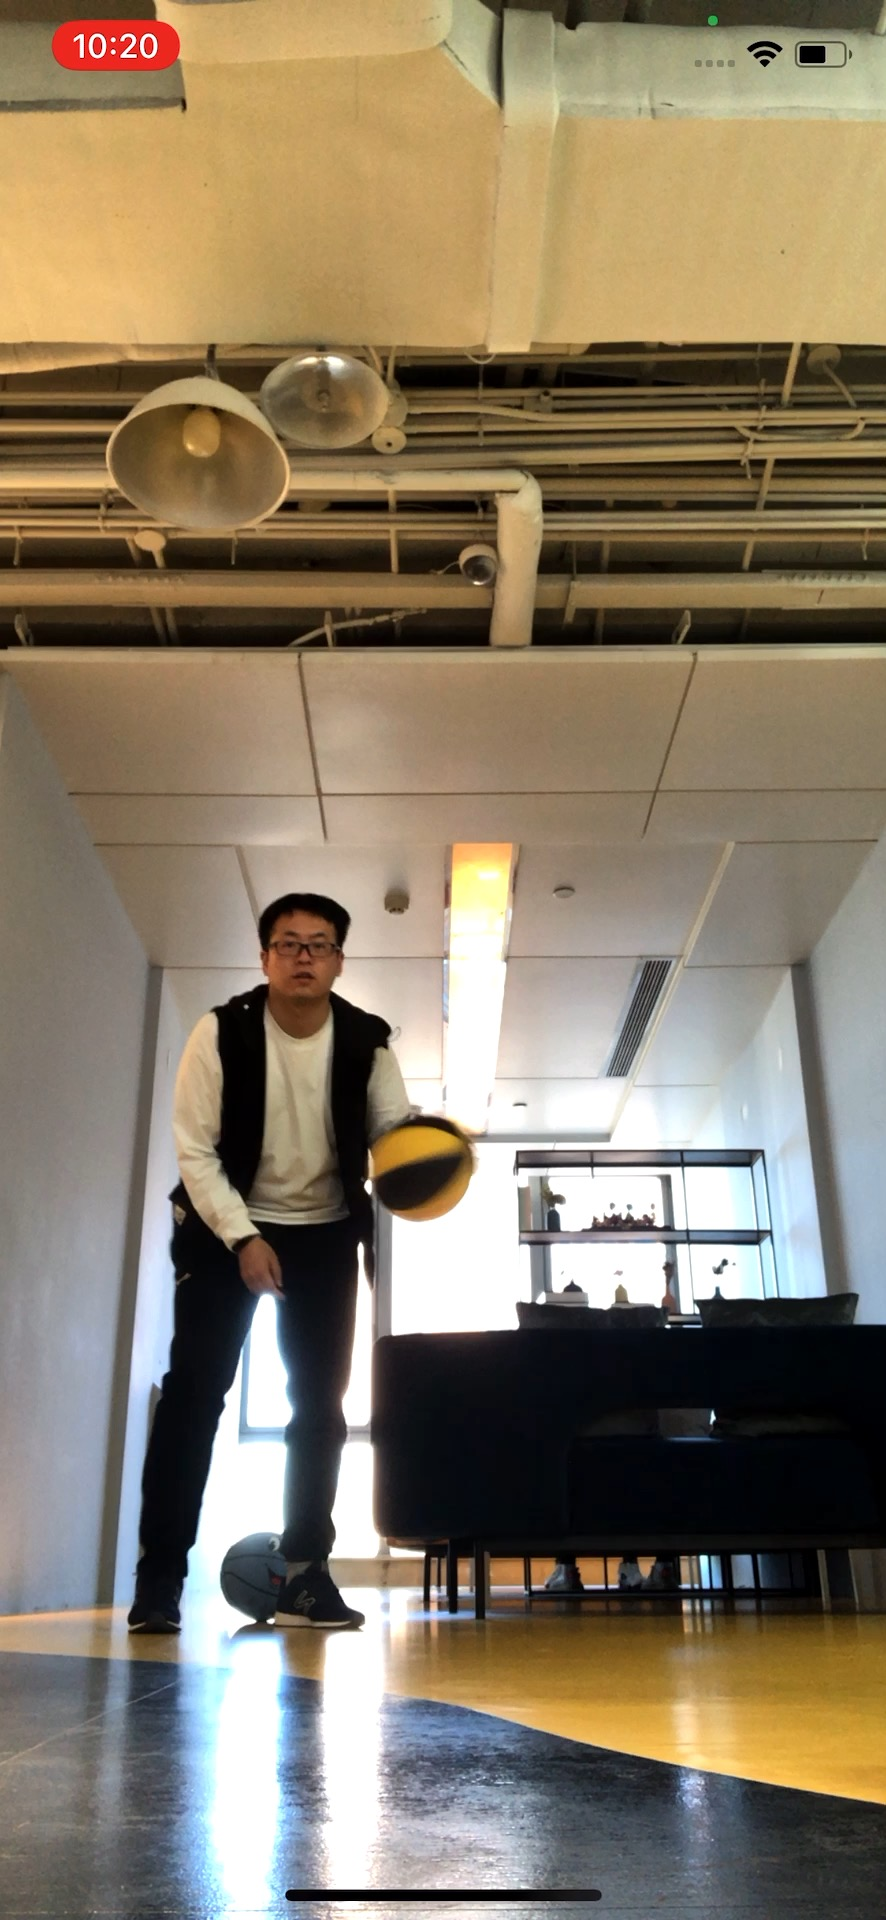ball: (365, 1114, 480, 1221), (225, 1531, 290, 1619)
